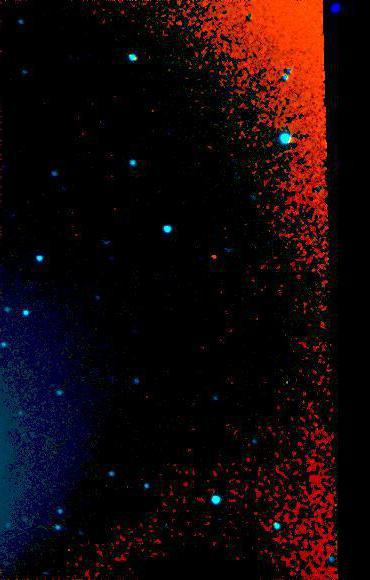star: (203, 245, 233, 275)
